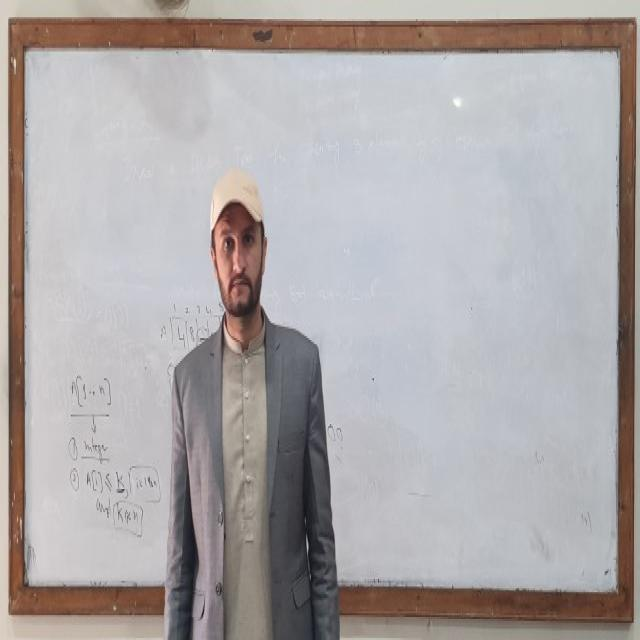Instructor: (170, 160, 318, 635)
White-board: (16, 31, 629, 606)
